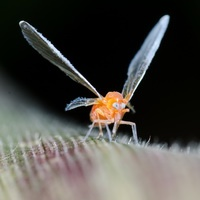insect: (19, 15, 169, 143)
